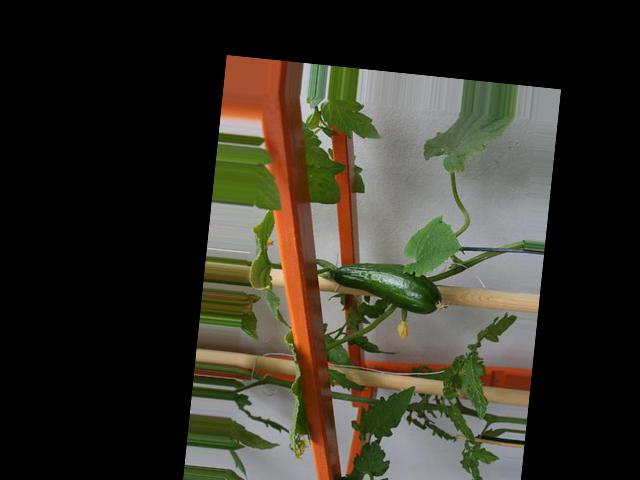cucumber: (331, 258, 452, 316)
